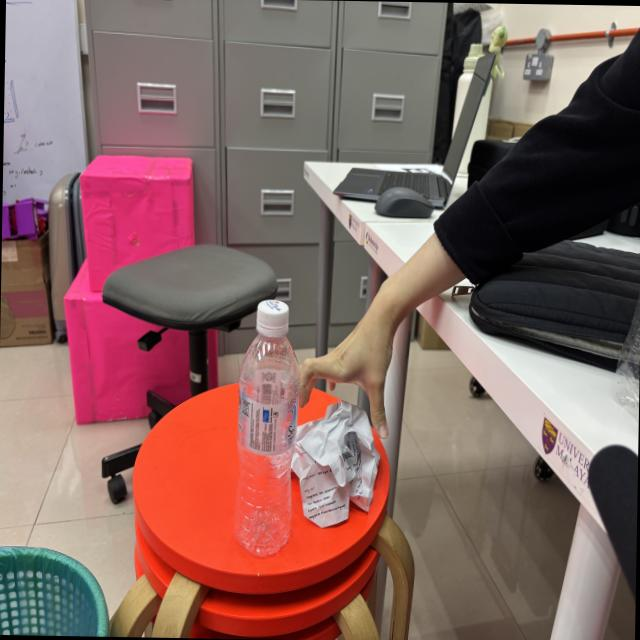crumpled_paper: (292, 384, 386, 540)
plastic_bottle: (228, 291, 304, 563)
